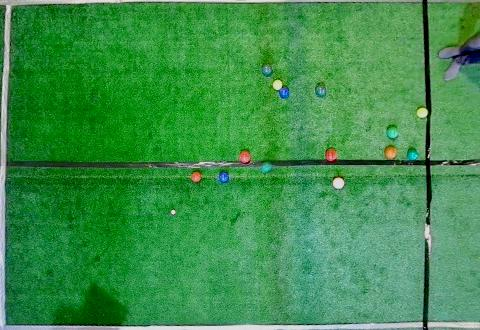blue: (279, 86, 290, 99), (218, 171, 229, 183)
green: (385, 124, 399, 139), (406, 147, 419, 161), (261, 160, 273, 173), (315, 84, 326, 97), (261, 64, 272, 76)
red: (384, 146, 397, 159), (332, 177, 345, 190), (239, 150, 251, 164), (191, 171, 202, 183), (326, 149, 337, 161)
vline: (422, 0, 479, 329), (0, 0, 15, 329)
white: (171, 209, 176, 215)
yellow: (416, 106, 429, 119), (272, 79, 283, 90)
